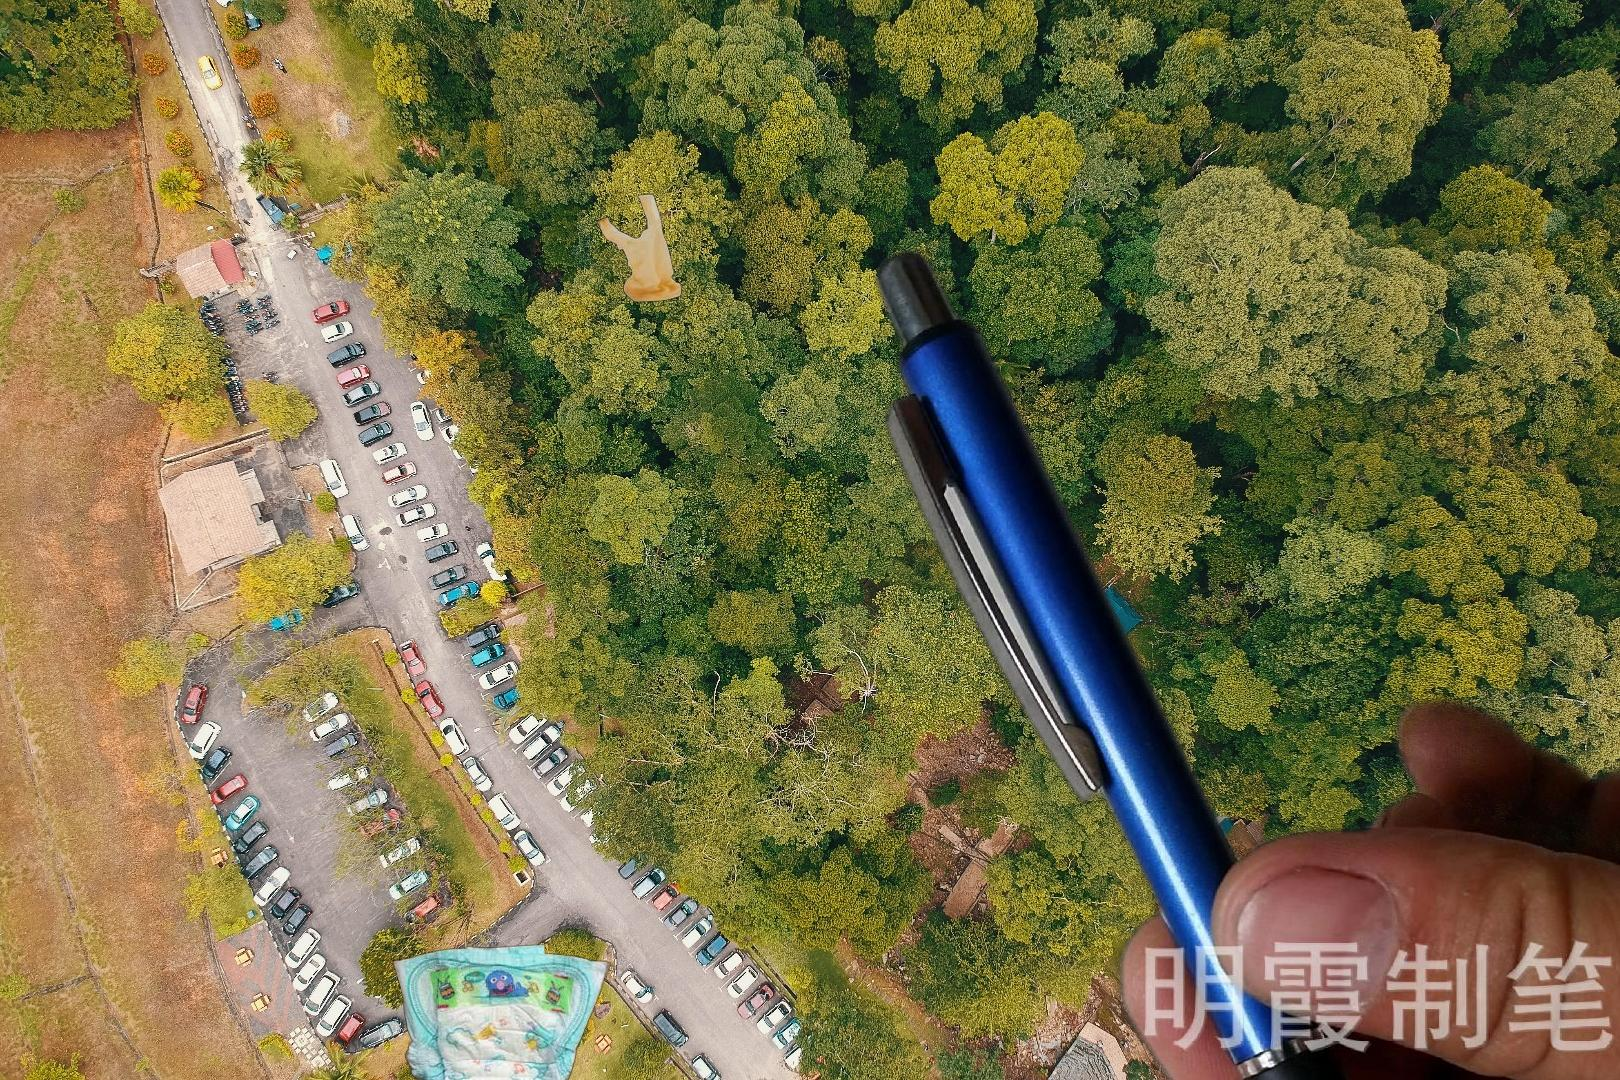penholder: (865, 235, 1620, 1080)
plastic-bag: (595, 190, 683, 303)
trash: (391, 943, 614, 1080)
